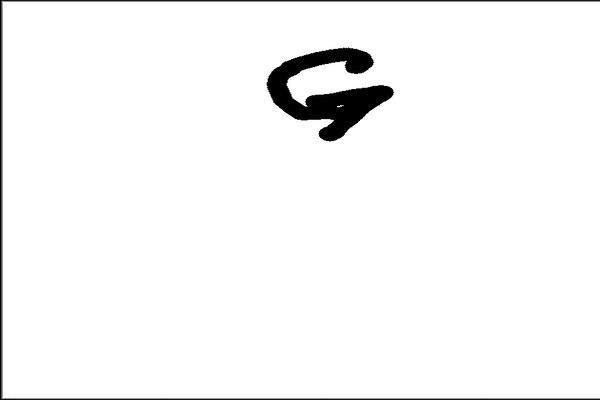G: (261, 43, 396, 142)
